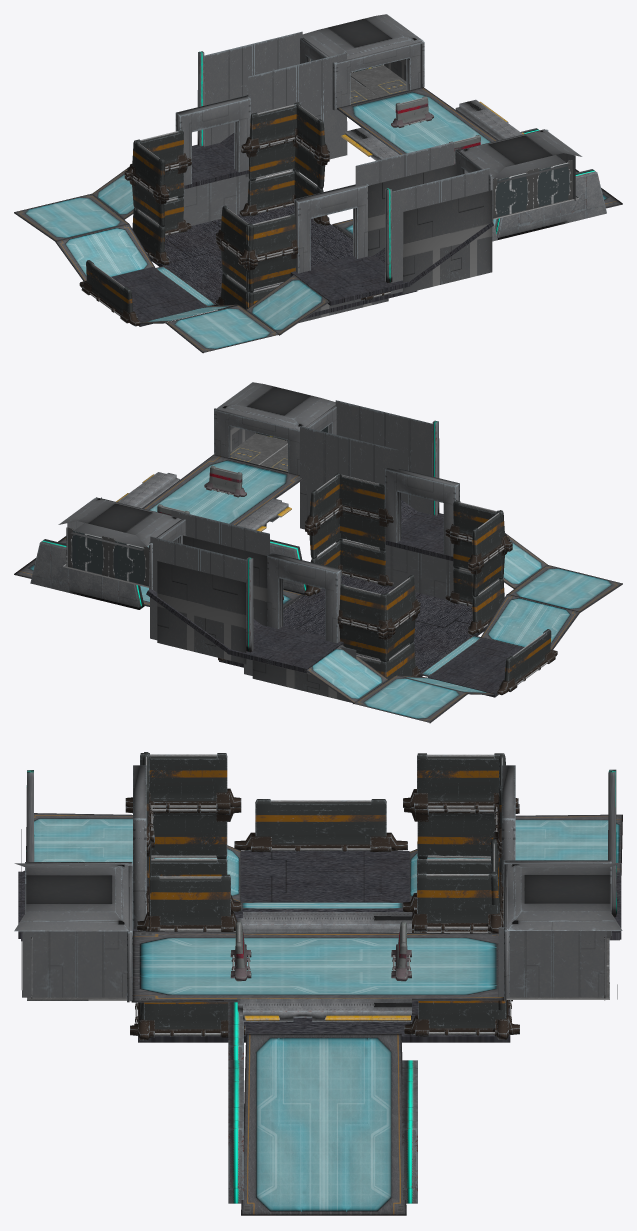
File: AbeStage (2).fbx
3 views of the same model, one above another, from view 1: azimuth 30°, elevation 25°; view 2: azimuth 150°, elevation 25°; view 3: azimuth 270°, elevation 25° (orthographic). The views are drawn at different scales.
Visible parts, largest first — view 1: Spaceship_room_wall1_mdl__4_, Docking_Floors_mdl__13_, Spaceship_shipboard_mdl__4_, Spaceship_room_wall1_mdl__6_, Spaceship_room_wall1_mdl__7_, Spaceship_room_wall1_mdl__2_, Spaceship_room_ceiling_mdl__1_, Docking_Floors_mdl__6_, Spaceship_shipboard_mdl__6_, Spaceship_room_ceiling_mdl__2_, Spaceship_shipboard_mdl__8_, spaceship_shipboard_wall_mdl_4 (+40 smaller); view 2: Spaceship_room_wall1_mdl__7_, Docking_Floors_mdl__13_, Spaceship_shipboard_mdl__4_, Spaceship_room_wall1_mdl__2_, Spaceship_room_wall1_mdl__4_, Spaceship_room_wall1_mdl__6_, Spaceship_room_ceiling_mdl__2_, spaceship_shipboard_wall_mdl_2, Spaceship_shipboard_mdl__1_, Spaceship_room_ceiling_mdl__1_, Spaceship_roomenter_mdl__12_, Spaceship_shipboard_mdl__8_ (+39 smaller); view 3: Spaceship_shipboard_mdl__5_, Spaceship_shipboard_mdl__4_, Docking_Floors_mdl__14_, Spaceship_docking_side_mdl, Barricade_mdl, Spaceship_room_ceiling_mdl__1_, Spaceship_room_ceiling_mdl__2_, Spaceship_room_wall2_mdl__1_, Spaceship_room_wall2_mdl__2_, Spaceship_shipboard_mdl__3_, Barricade_mdl__20_, Barricade_mdl__25_ (+24 smaller).
Part boxes in pixels (x1,y1,x2,y2): Spaceship_room_wall1_mdl__4_: [390, 168, 492, 294]; Docking_Floors_mdl__13_: [149, 205, 417, 318]; Spaceship_shipboard_mdl__4_: [337, 87, 498, 154]; Spaceship_room_wall1_mdl__6_: [245, 52, 347, 179]; Spaceship_room_wall1_mdl__7_: [204, 31, 302, 146]; Spaceship_room_wall1_mdl__2_: [355, 142, 455, 256]; Spaceship_room_ceiling_mdl__1_: [459, 130, 582, 182]; Docking_Floors_mdl__6_: [290, 255, 410, 305]; Spaceship_shipboard_mdl__6_: [55, 224, 155, 281]; Spaceship_room_ceiling_mdl__2_: [302, 14, 423, 62]; Spaceship_shipboard_mdl__8_: [14, 193, 128, 241]; spaceship_shipboard_wall_mdl_4: [494, 169, 606, 239]; Spaceship_room_wall1_mdl__7_: [150, 536, 248, 664]; Docking_Floors_mdl__13_: [219, 575, 487, 676]; Spaceship_shipboard_mdl__4_: [142, 454, 303, 547]; Spaceship_room_wall1_mdl__2_: [300, 426, 398, 541]; Spaceship_room_wall1_mdl__4_: [335, 400, 433, 515]; Spaceship_room_wall1_mdl__6_: [171, 510, 269, 626]; Spaceship_room_ceiling_mdl__2_: [58, 498, 182, 550]; spaceship_shipboard_wall_mdl_2: [30, 539, 144, 609]; Spaceship_shipboard_mdl__1_: [480, 594, 580, 649]; Spaceship_room_ceiling_mdl__1_: [216, 382, 335, 429]; Spaceship_roomenter_mdl__12_: [267, 554, 339, 643]; Spaceship_shipboard_mdl__8_: [353, 675, 468, 723]; Spaceship_shipboard_mdl__5_: [241, 1033, 406, 1215]; Spaceship_shipboard_mdl__4_: [131, 931, 503, 1002]; Docking_Floors_mdl__14_: [240, 851, 409, 902]; Spaceship_docking_side_mdl: [237, 912, 411, 1021]; Barricade_mdl: [234, 799, 407, 851]; Spaceship_room_ceiling_mdl__1_: [14, 863, 128, 931]; Spaceship_room_ceiling_mdl__2_: [508, 863, 622, 938]; Spaceship_room_wall2_mdl__1_: [22, 927, 129, 997]; Spaceship_room_wall2_mdl__2_: [498, 927, 606, 997]; Spaceship_shipboard_mdl__3_: [26, 813, 151, 863]; Barricade_mdl__20_: [403, 753, 518, 810]; Barricade_mdl__25_: [137, 874, 237, 931].
Bounding box in the file's own units: 3316 × 939 × 2279.
